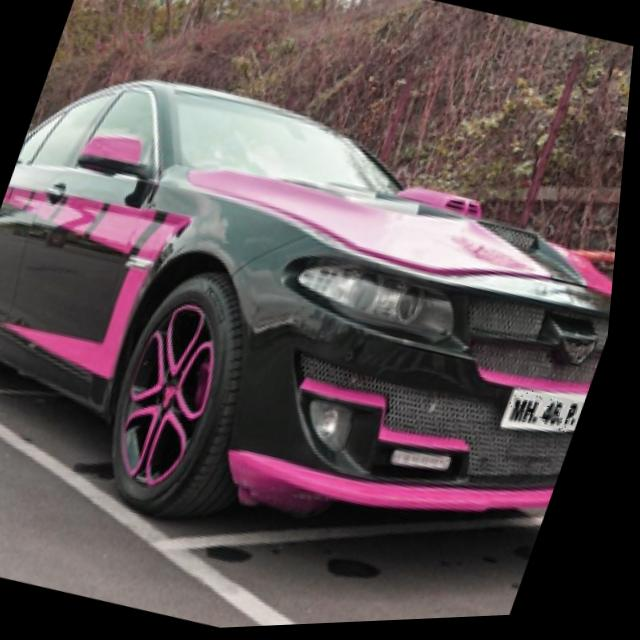license_plate: (511, 389, 593, 442)
